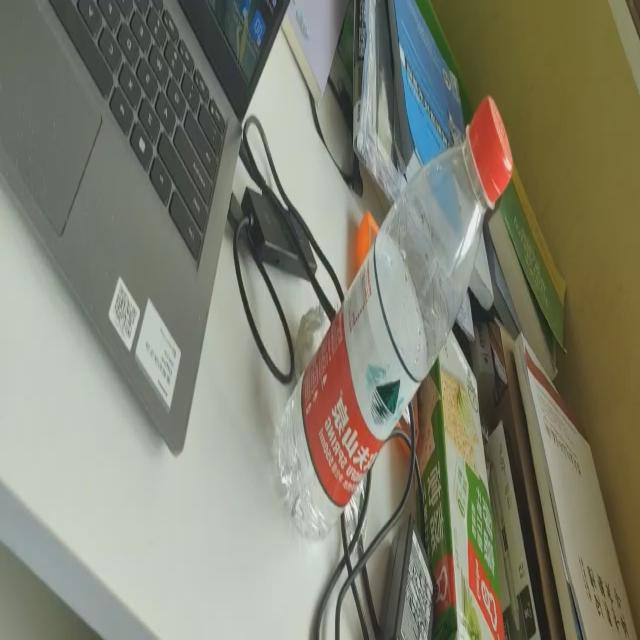plastic: (274, 92, 514, 551)
